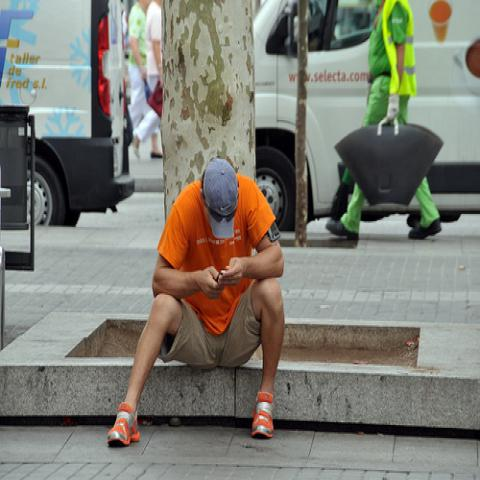truck: (253, 0, 479, 229), (0, 0, 135, 228)
